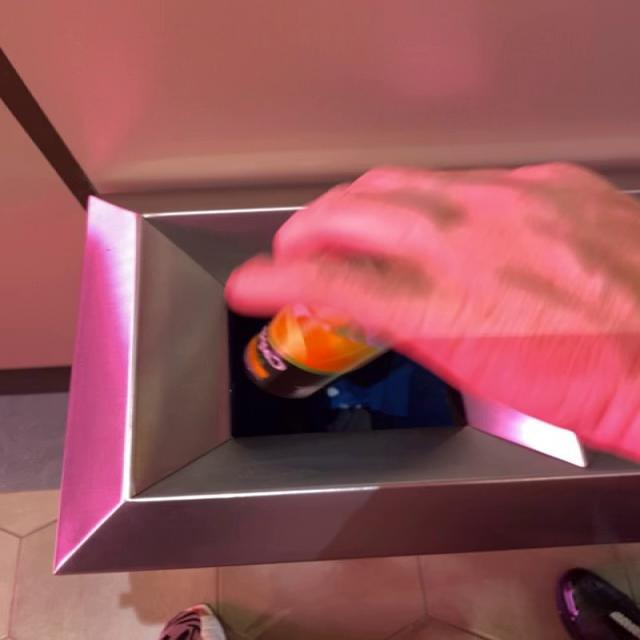bin: (53, 198, 637, 574)
metal: (244, 305, 385, 398)
